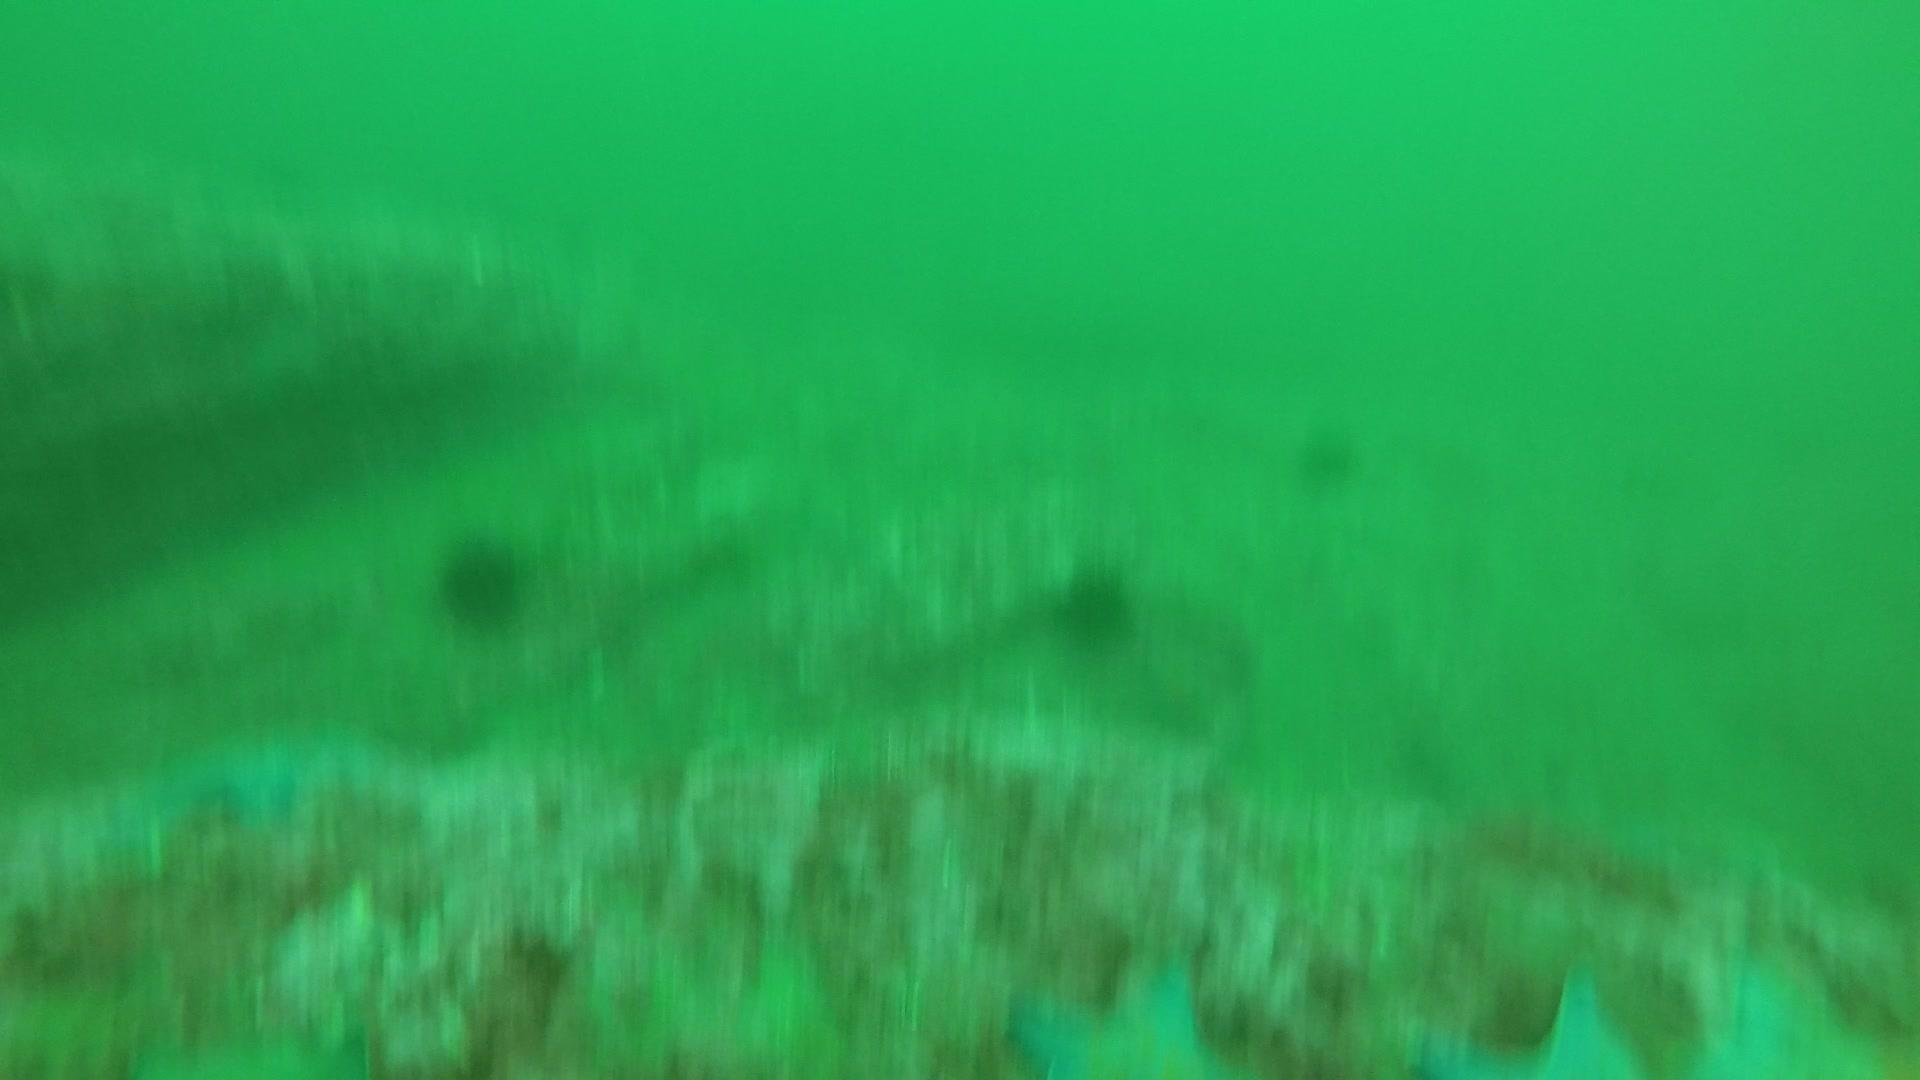echinus: (431, 531, 531, 634), (1048, 558, 1141, 651), (1290, 419, 1364, 491)
starfish: (165, 705, 440, 831), (1403, 957, 1654, 1072), (1001, 952, 1236, 1073), (1687, 942, 1891, 1077), (1528, 951, 1698, 1075)
